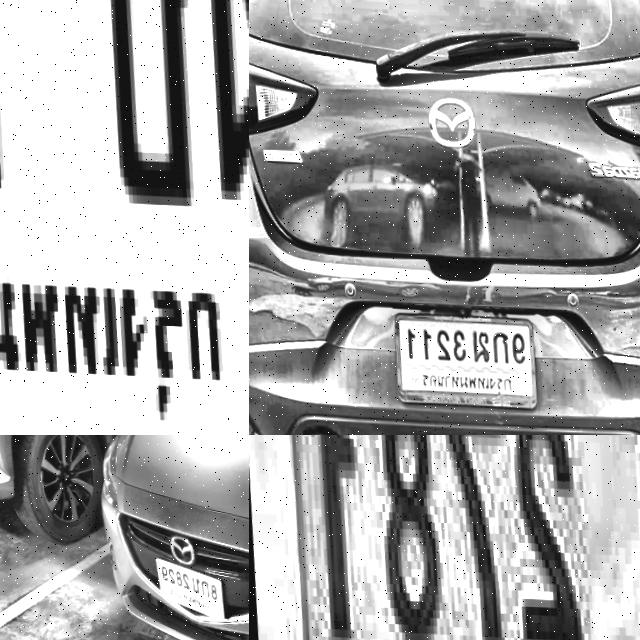license-plate: (0, 0, 249, 435), (249, 435, 640, 640), (378, 310, 529, 408), (142, 551, 217, 620)
